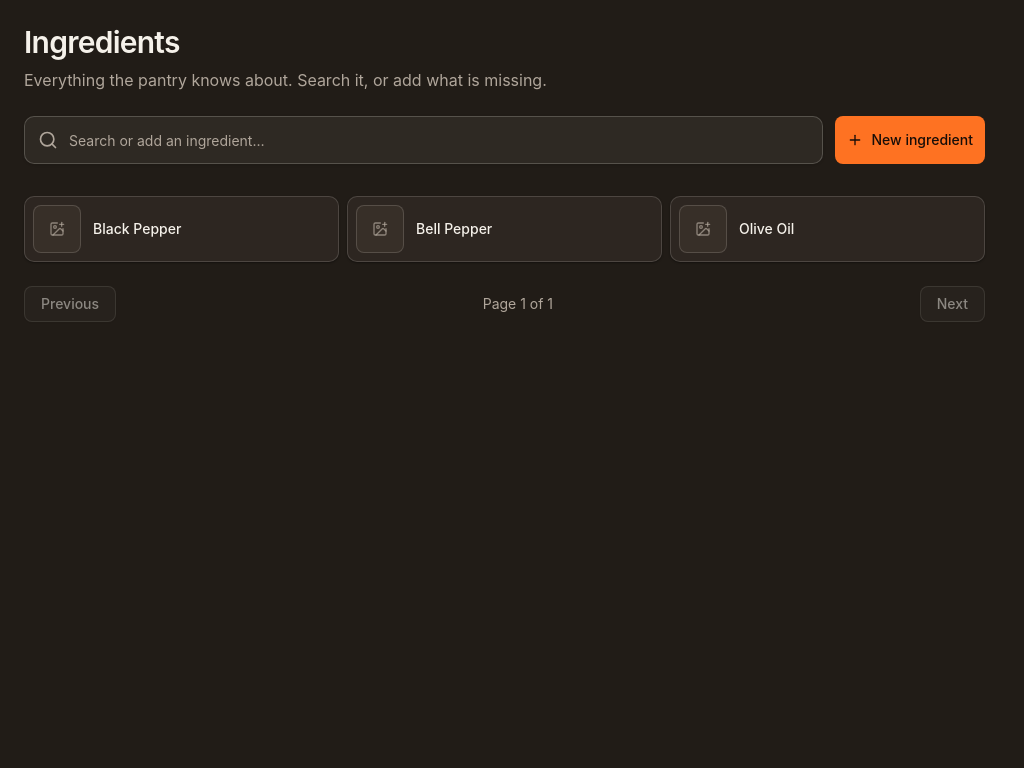
it: IngredientListPage › deletes an ingredient after a confirmation step
Click the button "olive oil": point(703, 229) [670,196,985,262]
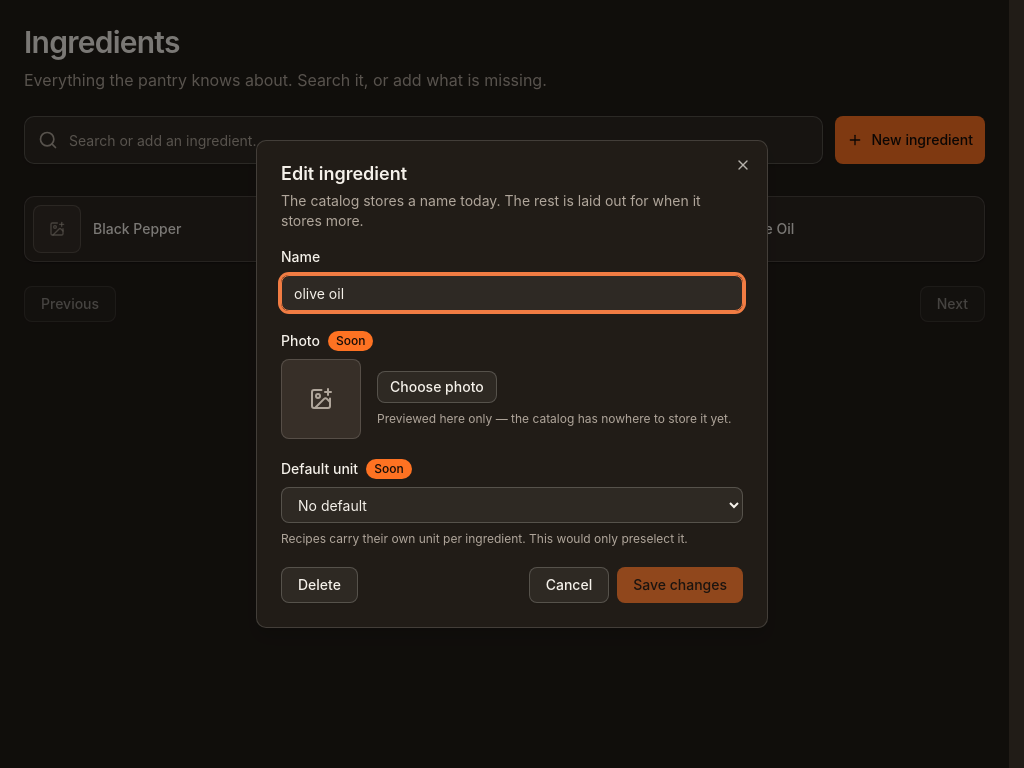
Result: the dialog is shown at [256,140,768,628]
Click the button "Delete": point(319, 585) [281,567,358,603]
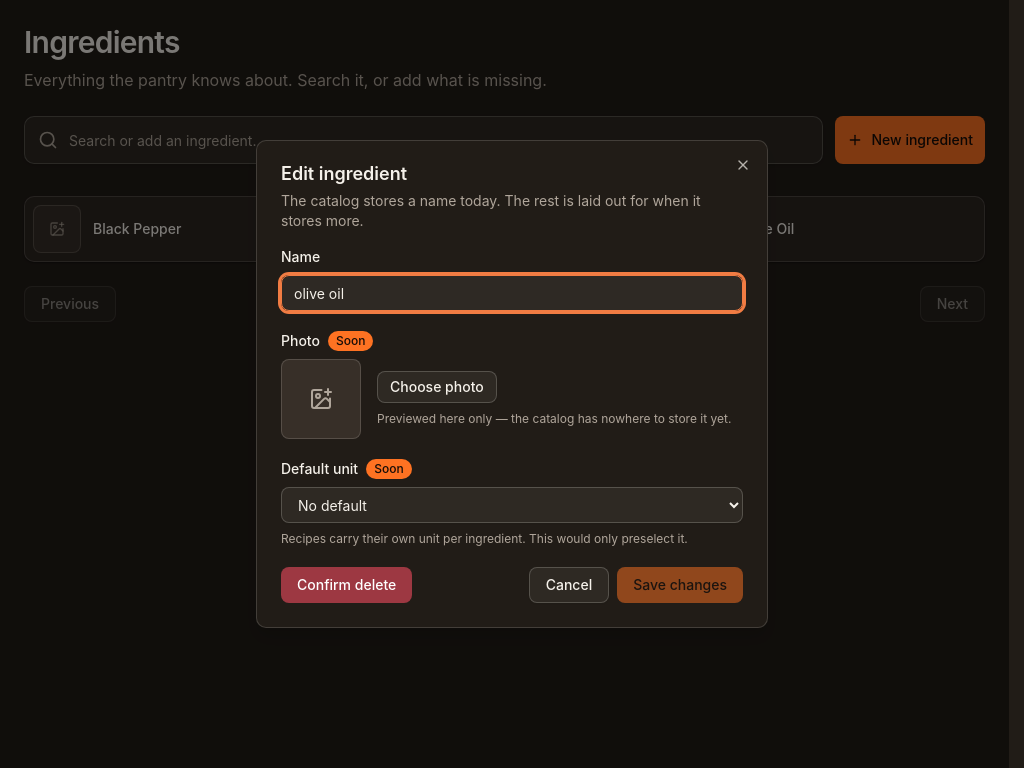
Click the button "Confirm delete": point(347, 585) [281,567,412,603]
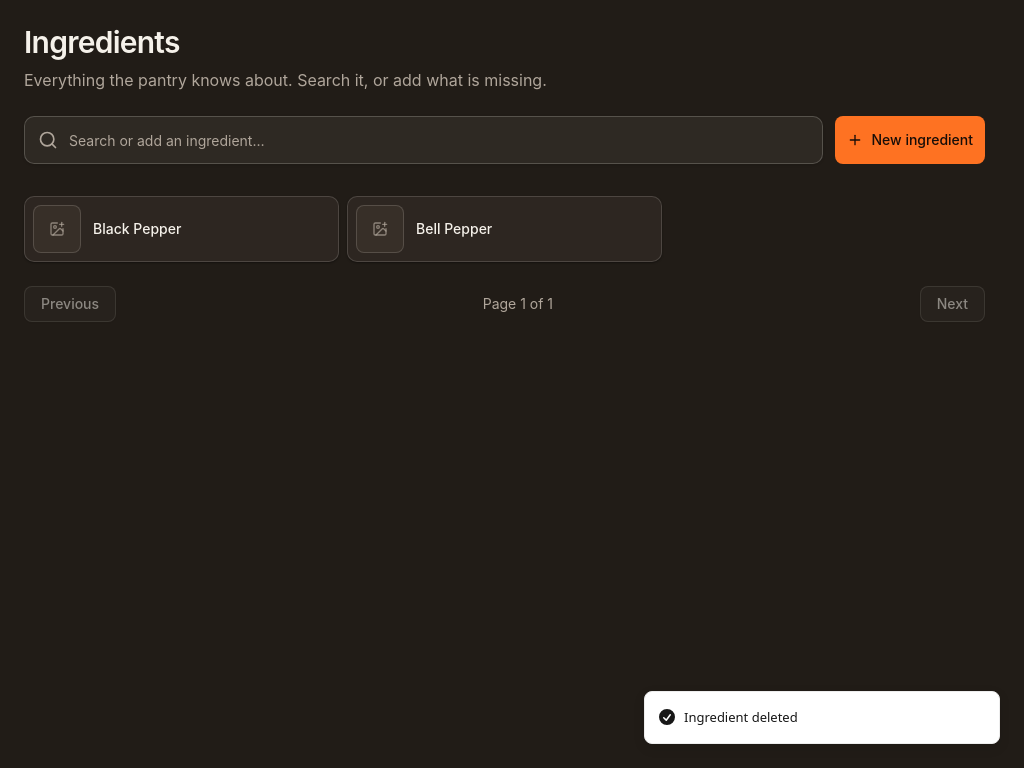
Result: the button "olive oil" is gone
